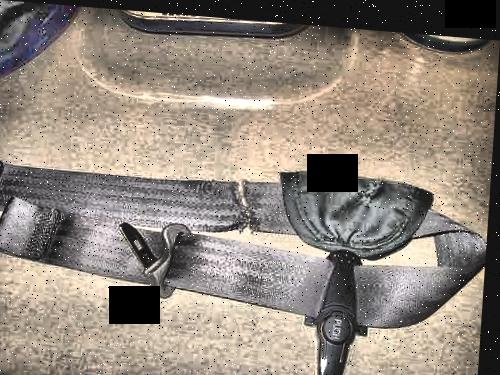seatbelt: (0, 132, 479, 333)
